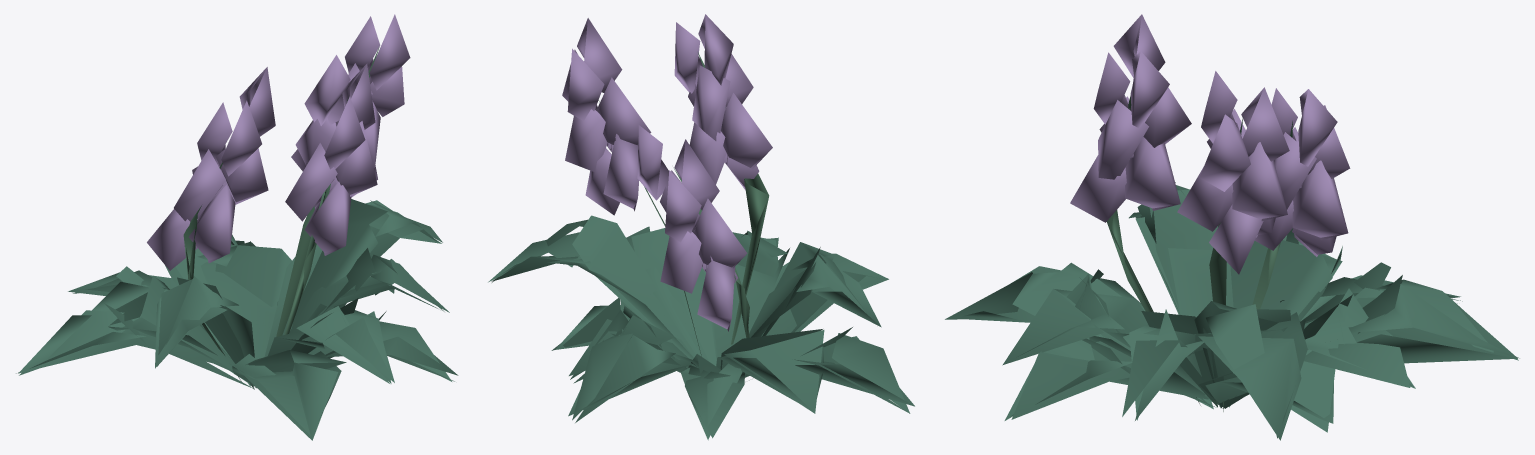
3 views of the same model, side by side, from view 1: azimuth 30°, elevation 25°; view 2: azimuth 150°, elevation 25°; view 3: azimuth 270°, elevation 25° (orthographic). The views are drawn at different scales.
Visible parts, largest first — view 1: Lavender_wide; view 2: Lavender_wide; view 3: Lavender_wide.
Part boxes in pixels (box(x1,y1,x2,y2)): Lavender_wide: box(16, 14, 458, 440); Lavender_wide: box(488, 14, 914, 440); Lavender_wide: box(945, 14, 1519, 440).
Bounding box in the file's own units: 0.9173 × 0.7085 × 0.8738.
1 material, 1 textured.
